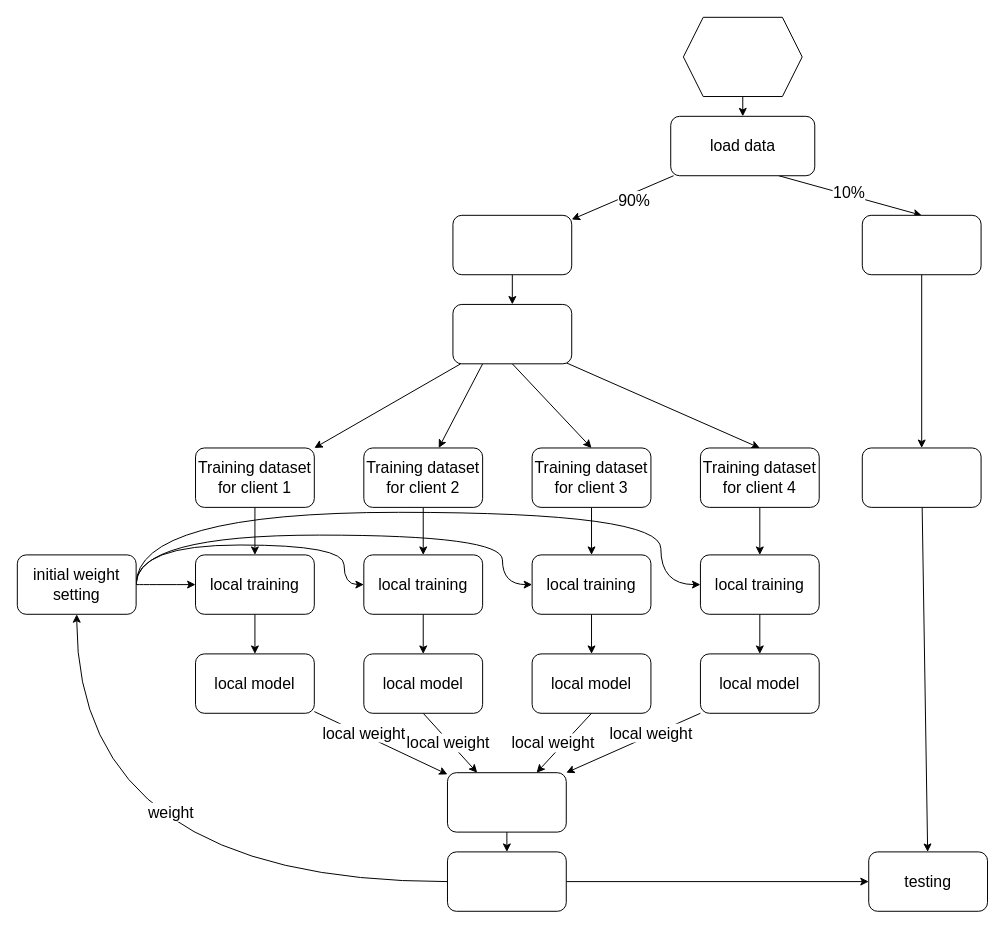
This 1005x929 diagram has some shape labels left out. Each missing label, with the box of its shape:
(x_test, y_test): (861, 214, 981, 275)
(x_train, y_train): (452, 214, 572, 275)
average weight: (446, 772, 566, 832)
csv data: (682, 16, 802, 97)
dirichlet partition: (452, 303, 572, 364)
global model: (446, 851, 566, 911)
Testing dataset: (861, 447, 981, 507)
